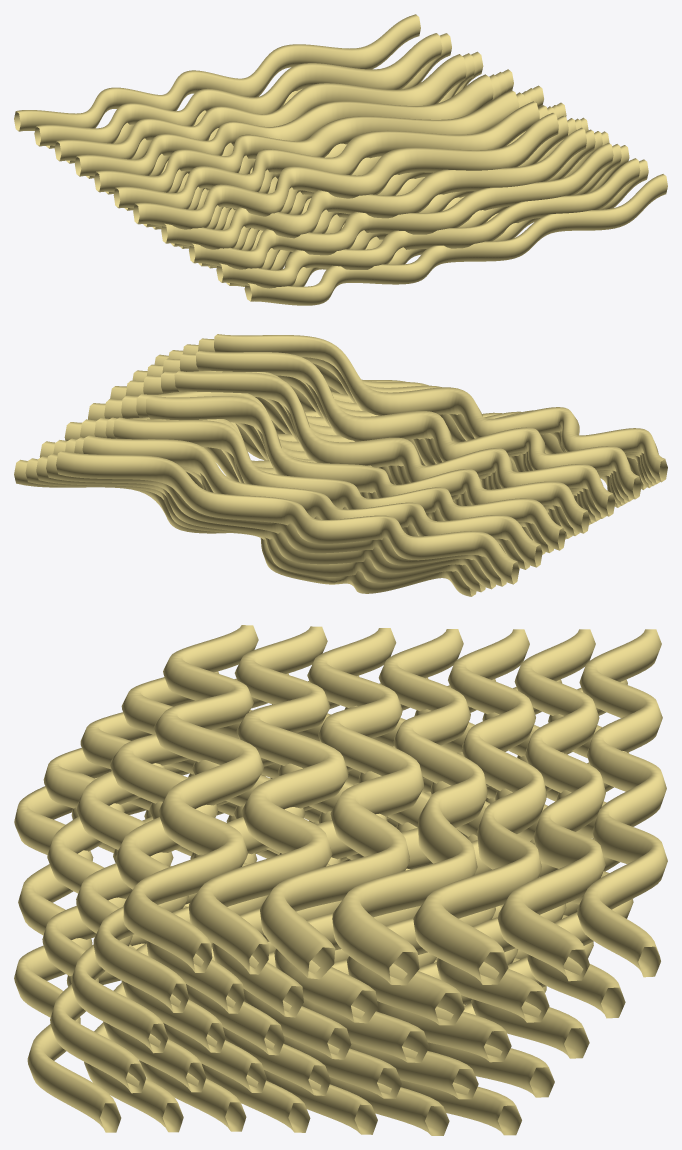
The model's file is NoodleChunk.fbx.
The picture shows the model from 3 angles, top to bottom: view 1: azimuth 30°, elevation 25°; view 2: azimuth 150°, elevation 25°; view 3: azimuth 270°, elevation 25°; orthographic projection. The views are drawn at different scales.
Visible parts, largest first — view 1: NoodleChunk; view 2: NoodleChunk; view 3: NoodleChunk.
Part boxes in pixels (x1=…): NoodleChunk: x1=14, y1=14, x2=667, y2=305; NoodleChunk: x1=14, y1=334, x2=667, y2=596; NoodleChunk: x1=14, y1=625, x2=667, y2=1135.
Bounding box in the file's own units: 243 × 54.43 × 175.
